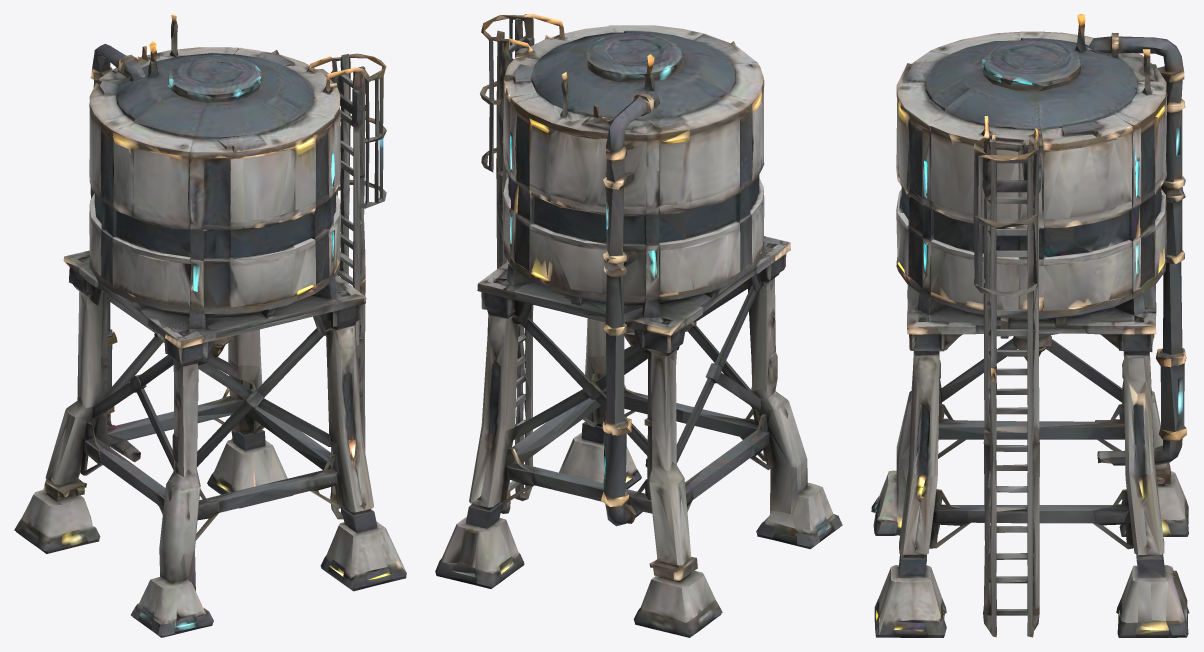
File: water_tank.glb
The picture shows the model from 3 angles, left to right: view 1: azimuth 30°, elevation 25°; view 2: azimuth 150°, elevation 25°; view 3: azimuth 270°, elevation 25°; orthographic projection. The views are drawn at different scales.
Parts seen in each view (by area): view 1: water_tank; view 2: water_tank; view 3: water_tank.
Part boxes in pixels (left/top/right/bottom): water_tank: left=14, top=14, right=406, bottom=637; water_tank: left=435, top=14, right=842, bottom=637; water_tank: left=871, top=14, right=1189, bottom=637.
Bounding box in the file's own units: 4.14 × 6.99 × 3.72.
1 material, 1 textured.
